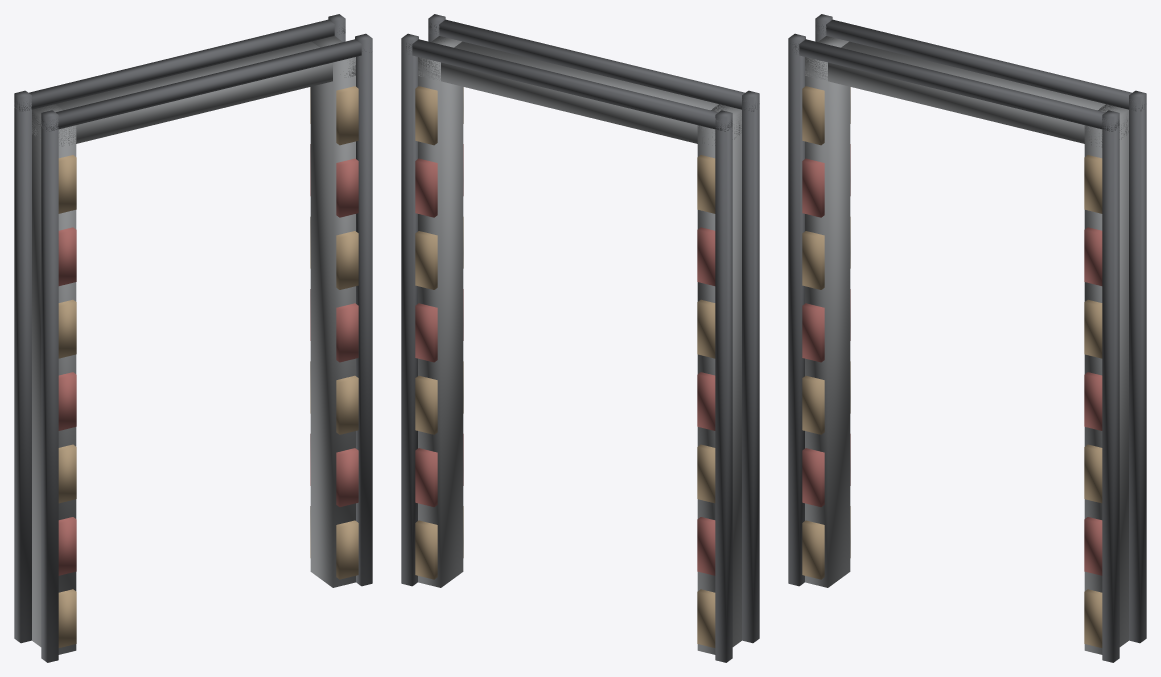
File: doorway_brick_return_w106_h200_d16.glb
3 renders of one model, left to right at view 1: azimuth 30°, elevation 25°; view 2: azimuth 150°, elevation 25°; view 3: azimuth 330°, elevation 25°, orthographic.
Visible parts, largest first — view 1: world; view 2: world; view 3: world.
Boxes of the visible parts, box(x1,y1,x2,y2) form: world: box(14, 14, 372, 662); world: box(401, 14, 759, 662); world: box(788, 14, 1146, 662).
Bounding box in the file's own units: 1.34 × 2.15 × 0.2378.
